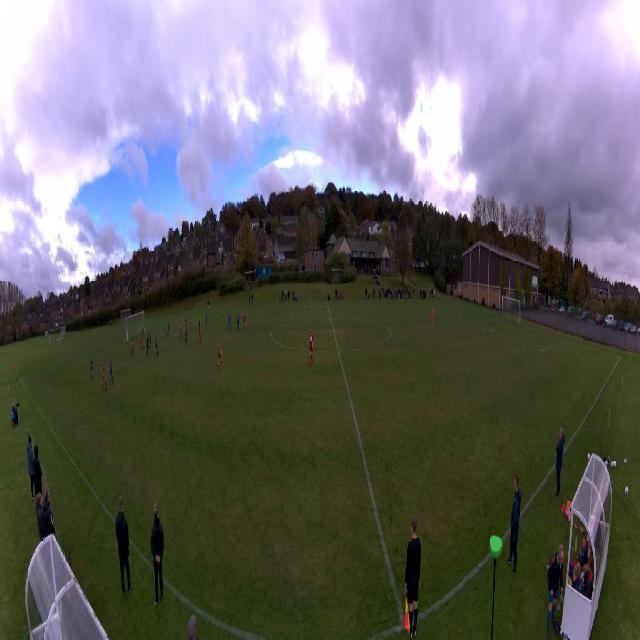ball: (246, 323, 247, 327)
player: (308, 328, 314, 369), (217, 338, 223, 372), (102, 362, 107, 390), (109, 357, 114, 385), (90, 356, 94, 381), (242, 311, 248, 327), (154, 335, 158, 357), (184, 323, 188, 345), (227, 314, 232, 331), (198, 323, 202, 344), (146, 335, 150, 356), (140, 332, 144, 352), (166, 320, 170, 338), (236, 315, 240, 333), (131, 337, 134, 359), (431, 307, 434, 327), (149, 332, 152, 351), (189, 315, 192, 332), (215, 307, 218, 321), (180, 321, 182, 339), (142, 325, 145, 336), (205, 309, 207, 325), (185, 316, 187, 328)
